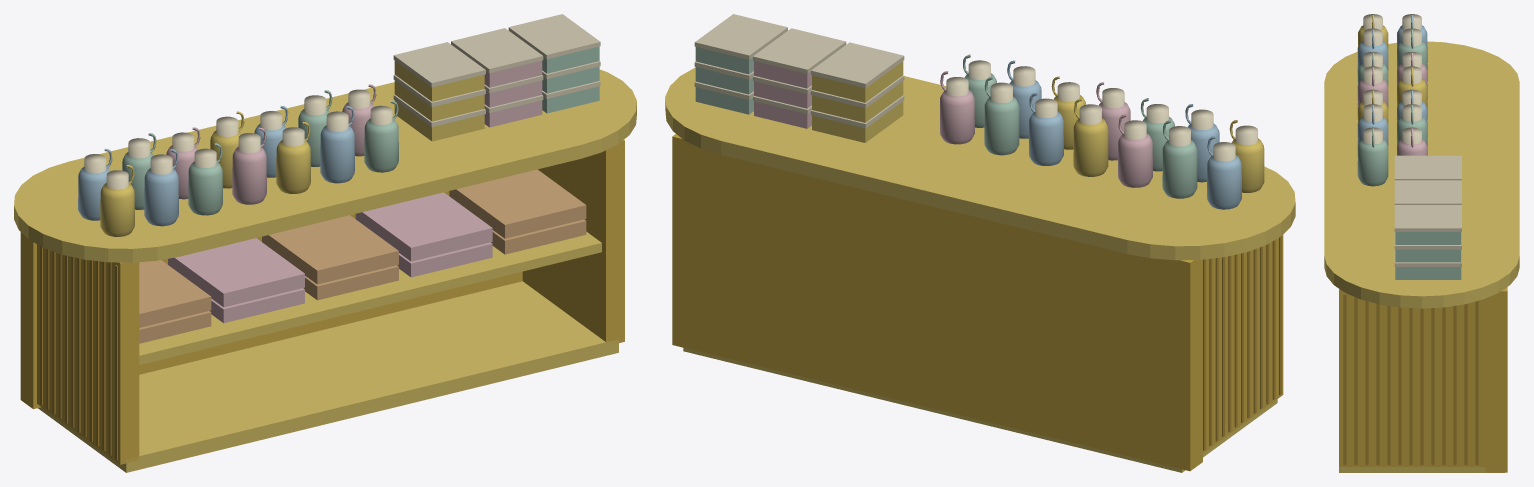
Rendered from gifts.glb.
3 renders of one model, left to right at view 1: azimuth 30°, elevation 25°; view 2: azimuth 150°, elevation 25°; view 3: azimuth 270°, elevation 25°, orthographic. The views are drawn at different scales.
Parts seen in each view (by area): view 1: Surface; view 2: Surface; view 3: Surface.
Part boxes in pixels (x1=…): Surface: x1=14, y1=14, x2=636, y2=472; Surface: x1=665, y1=14, x2=1295, y2=472; Surface: x1=1324, y1=14, x2=1519, y2=472.
Bounding box in the file's own units: 2.47 × 1.17 × 0.8.
